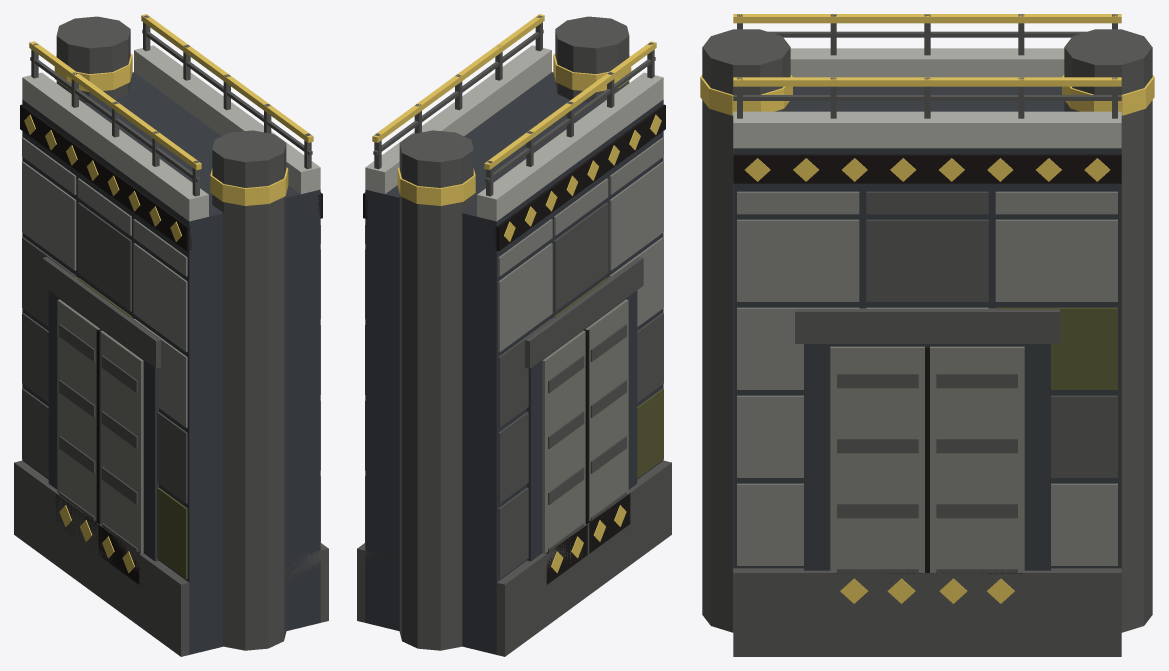
Rendered from fort_ship_inner.glb.
3 renders of one model, left to right at view 1: azimuth 30°, elevation 25°; view 2: azimuth 150°, elevation 25°; view 3: azimuth 270°, elevation 25°, orthographic. The views are drawn at different scales.
Visible parts, largest first — view 1: fort_ship_inner; view 2: fort_ship_inner; view 3: fort_ship_inner.
Part boxes in pixels (x1,y1,x2,y2): fort_ship_inner: [14, 14, 328, 656]; fort_ship_inner: [357, 14, 671, 656]; fort_ship_inner: [700, 14, 1154, 656].
Bounding box in the file's own units: 4.54 × 14.2 × 10.3.
